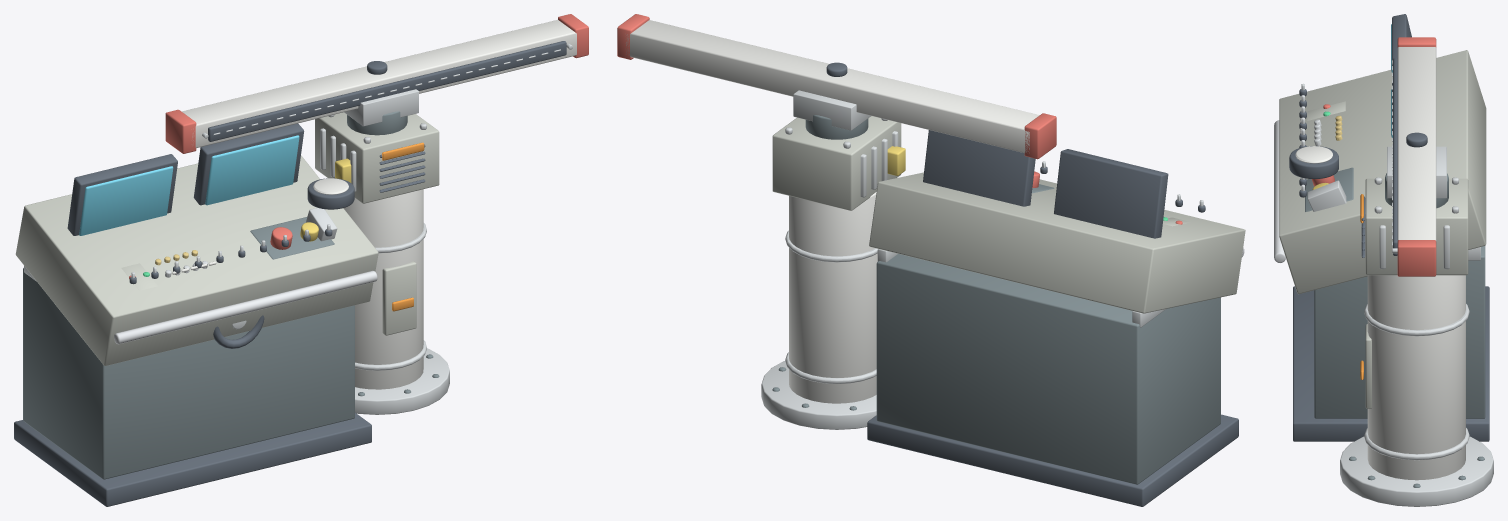
Rendered from bridge_navcom_suite.glb.
3 renders of one model, left to right at view 1: azimuth 30°, elevation 25°; view 2: azimuth 150°, elevation 25°; view 3: azimuth 270°, elevation 25°, orthographic. The views are drawn at different scales.
Parts seen in each view (by area): view 1: NavLight_Console_Panel__Iron, NavLight_Console_Panel__PebbleGrey, NavLight_Console_Panel, Rotating_S-Band_Scanner_Bar__WhiteDial, Radar_Pedestal__WhiteDial, NavLight_Console_Panel__CyanLcd, Gearbox_Housing, Rotating_S-Band_Scanner_Bar__DarkPlinth, Radar_Pedestal, NavLight_Console_Panel__Stainless, Radar_Pedestal__PebbleGrey, Rotating_S-Band_Scanner_Bar (+6 smaller); view 2: NavLight_Console_Panel__Iron, NavLight_Console_Panel__PebbleGrey, NavLight_Console_Panel, Radar_Pedestal__WhiteDial, Rotating_S-Band_Scanner_Bar__WhiteDial, Gearbox_Housing, Radar_Pedestal, Rotating_S-Band_Scanner_Bar__StatusRed, Rotating_S-Band_Scanner_Bar, Gearbox_Housing__Steel, Gearbox_Housing__Iron; view 3: NavLight_Console_Panel__PebbleGrey, Radar_Pedestal__WhiteDial, NavLight_Console_Panel__Iron, NavLight_Console_Panel, Rotating_S-Band_Scanner_Bar__WhiteDial, Radar_Pedestal, Gearbox_Housing, Rotating_S-Band_Scanner_Bar__StatusRed, Rotating_S-Band_Scanner_Bar__DarkPlinth, NavLight_Console_Panel__Steel, Rotating_S-Band_Scanner_Bar, NavLight_Console_Panel__Stainless (+5 smaller).
Boxes of the visible parts, <box> form: NavLight_Console_Panel__Iron: <box>23,268,354,479</box>; NavLight_Console_Panel__PebbleGrey: <box>15,155,378,365</box>; NavLight_Console_Panel: <box>14,123,371,506</box>; Rotating_S-Band_Scanner_Bar__WhiteDial: <box>182,20,576,147</box>; Radar_Pedestal__WhiteDial: <box>343,189,423,389</box>; NavLight_Console_Panel__CyanLcd: <box>79,135,299,235</box>; Gearbox_Housing: <box>315,112,439,203</box>; Rotating_S-Band_Scanner_Bar__DarkPlinth: <box>208,41,566,141</box>; Radar_Pedestal: <box>355,223,449,414</box>; NavLight_Console_Panel__Stainless: <box>114,270,377,344</box>; Radar_Pedestal__PebbleGrey: <box>382,261,416,335</box>; Rotating_S-Band_Scanner_Bar: <box>202,43,572,138</box>; NavLight_Console_Panel__Iron: <box>876,254,1220,484</box>; NavLight_Console_Panel__PebbleGrey: <box>869,172,1245,313</box>; NavLight_Console_Panel: <box>867,130,1238,506</box>; Radar_Pedestal__WhiteDial: <box>789,192,877,403</box>; Rotating_S-Band_Scanner_Bar__WhiteDial: <box>626,20,1039,153</box>; Gearbox_Housing: <box>772,116,901,210</box>; Radar_Pedestal: <box>761,230,877,429</box>; Rotating_S-Band_Scanner_Bar__StatusRed: <box>617,14,1056,159</box>; Rotating_S-Band_Scanner_Bar: <box>793,90,870,130</box>; Gearbox_Housing__Steel: <box>785,118,898,197</box>; Gearbox_Housing__Iron: <box>805,115,868,139</box>; NavLight_Console_Panel__PebbleGrey: <box>1279,50,1486,294</box>; Radar_Pedestal__WhiteDial: <box>1367,275,1465,480</box>; NavLight_Console_Panel__Iron: <box>1314,246,1485,418</box>; NavLight_Console_Panel: <box>1289,14,1489,441</box>; Rotating_S-Band_Scanner_Bar__WhiteDial: <box>1397,47,1436,240</box>; Radar_Pedestal: <box>1340,304,1493,506</box>; Gearbox_Housing: <box>1365,178,1468,275</box>; Rotating_S-Band_Scanner_Bar__StatusRed: <box>1397,37,1436,276</box>; Rotating_S-Band_Scanner_Bar__DarkPlinth: <box>1393,58,1427,255</box>; NavLight_Console_Panel__Steel: <box>1301,84,1480,260</box>; Rotating_S-Band_Scanner_Bar: <box>1387,60,1446,253</box>; NavLight_Console_Panel__Stainless: <box>1274,120,1285,262</box>.
Bounding box in the file's own units: 1.52 × 0.873 × 0.514.
